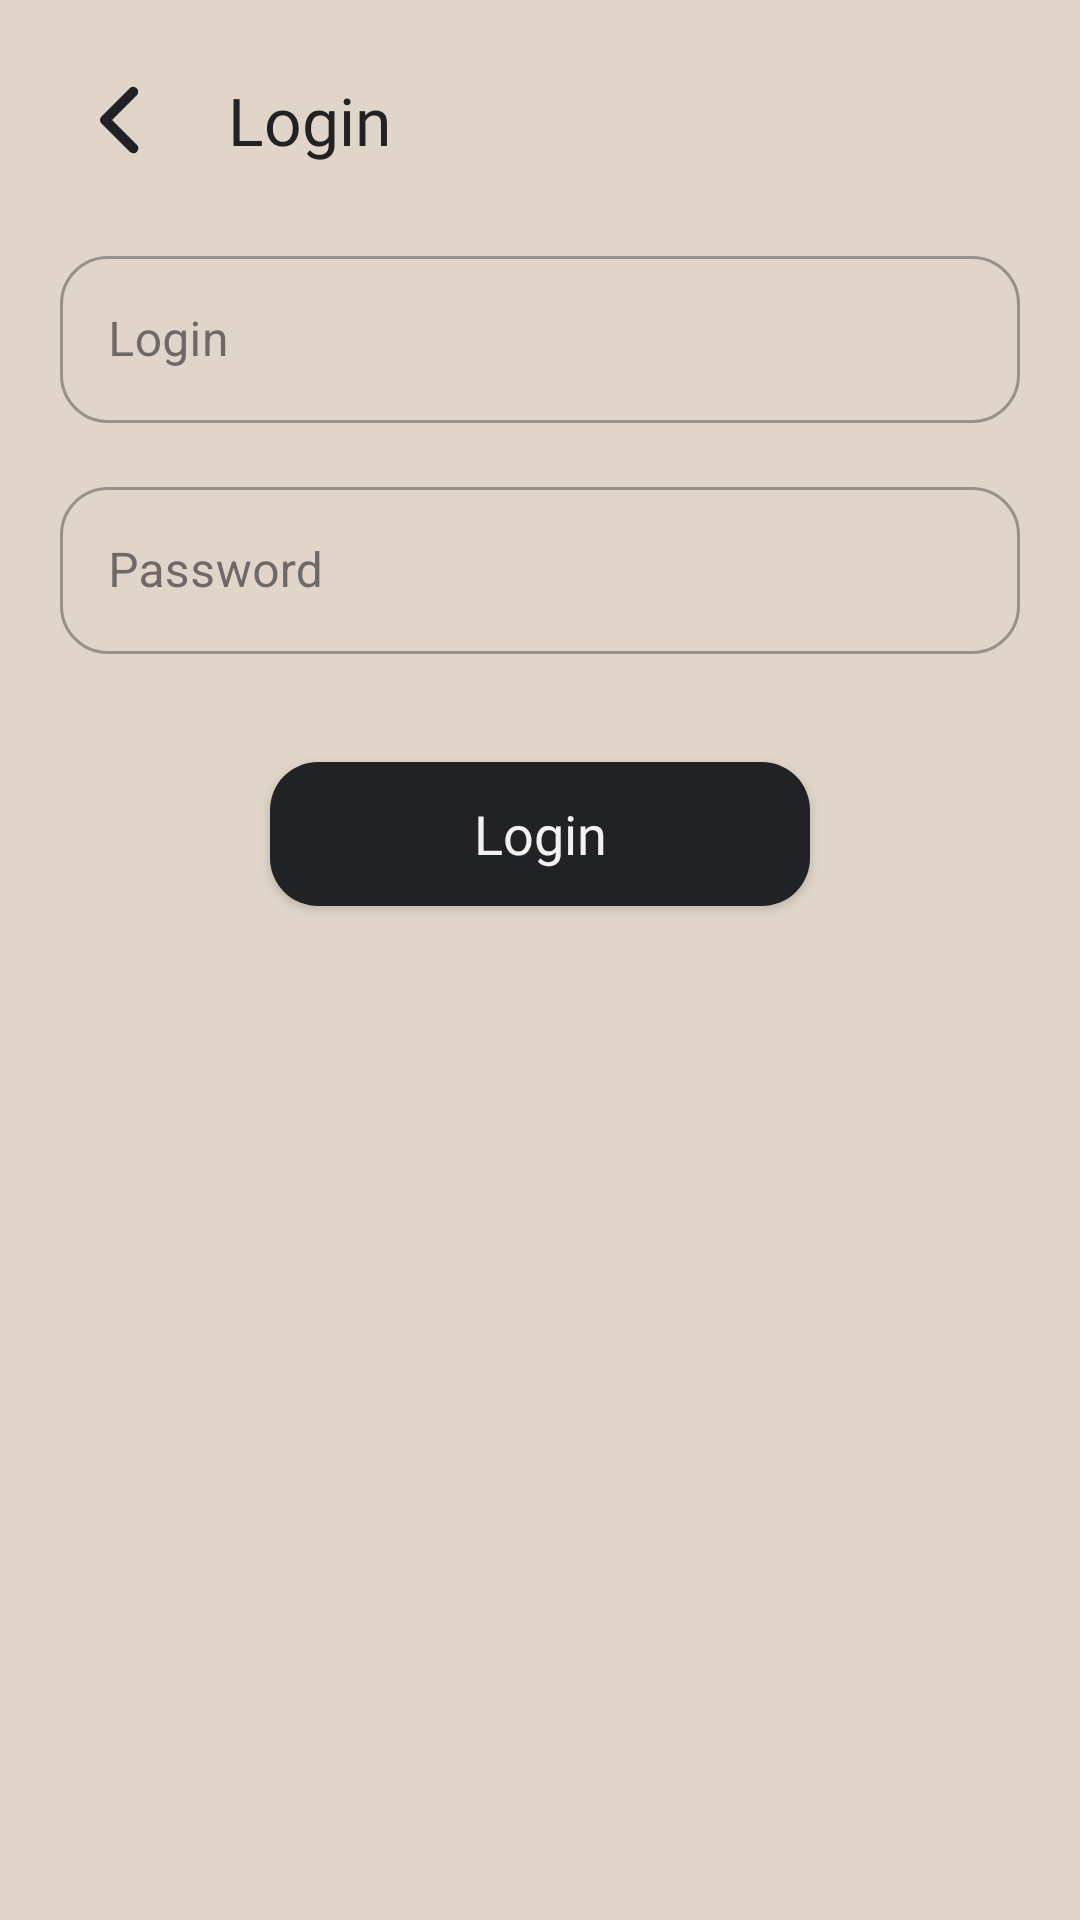

Icons on this 1080x1920 Android screen, each with its box as (x1, y1, x2, y2):
arrow left: (100, 86, 139, 154)
